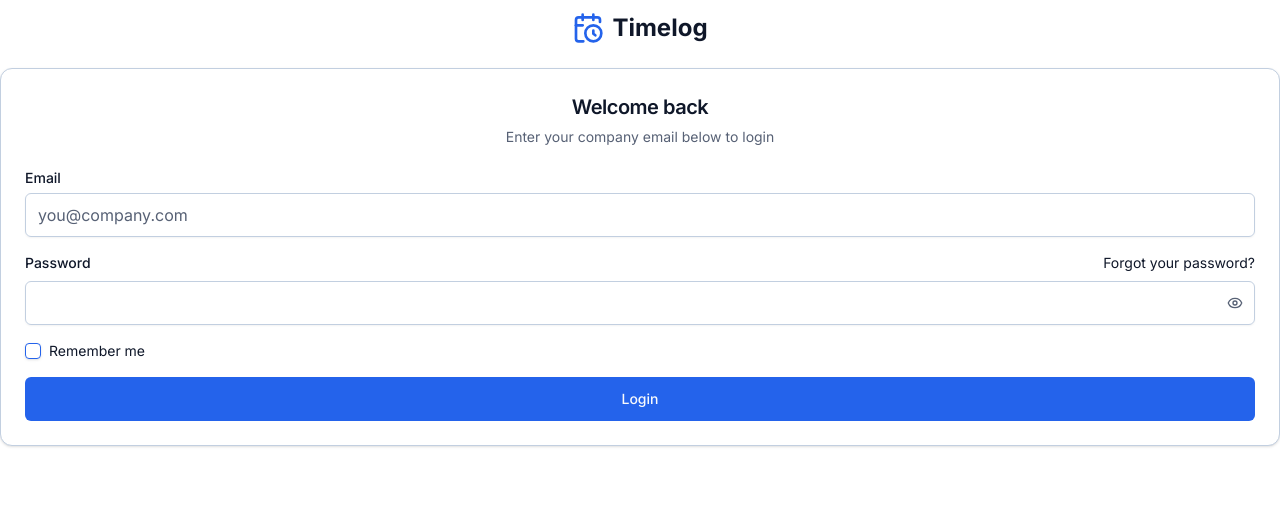
Test: LoginForm › email validation (AC6) › should show error when email is empty
The image size is (1280, 520).
# Submit with empty email
Click the button "Login": (640, 399) [25,377,1255,421]
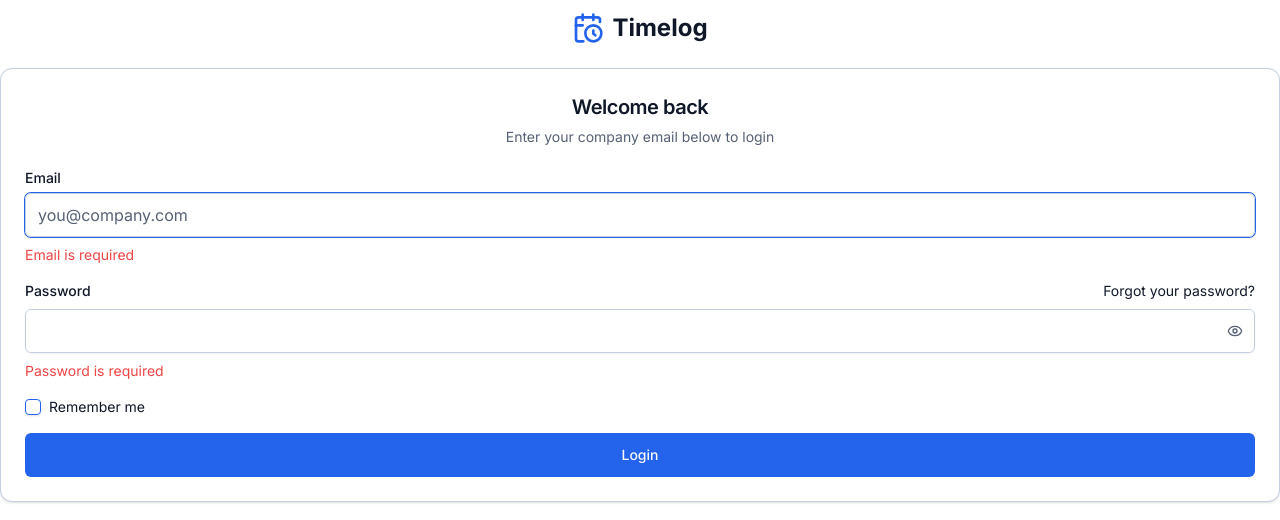
Result: the text "Email is required" is shown at [25,246,134,263]
